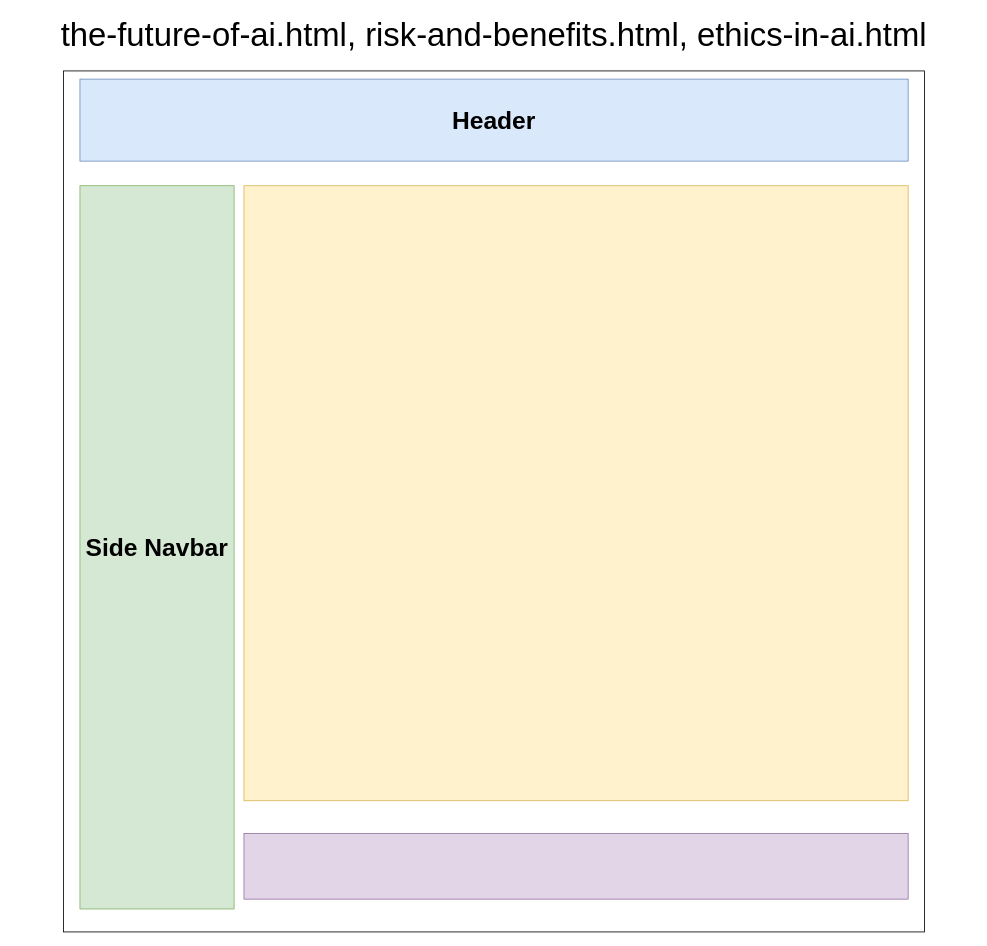
The diagram is 987 pixels wide and 946 high, and some of its shapes have lost their labels. The centre of each missing label's shape, as x and y in pixels:
Footer: the point at 575,866
Main: the point at 575,493
